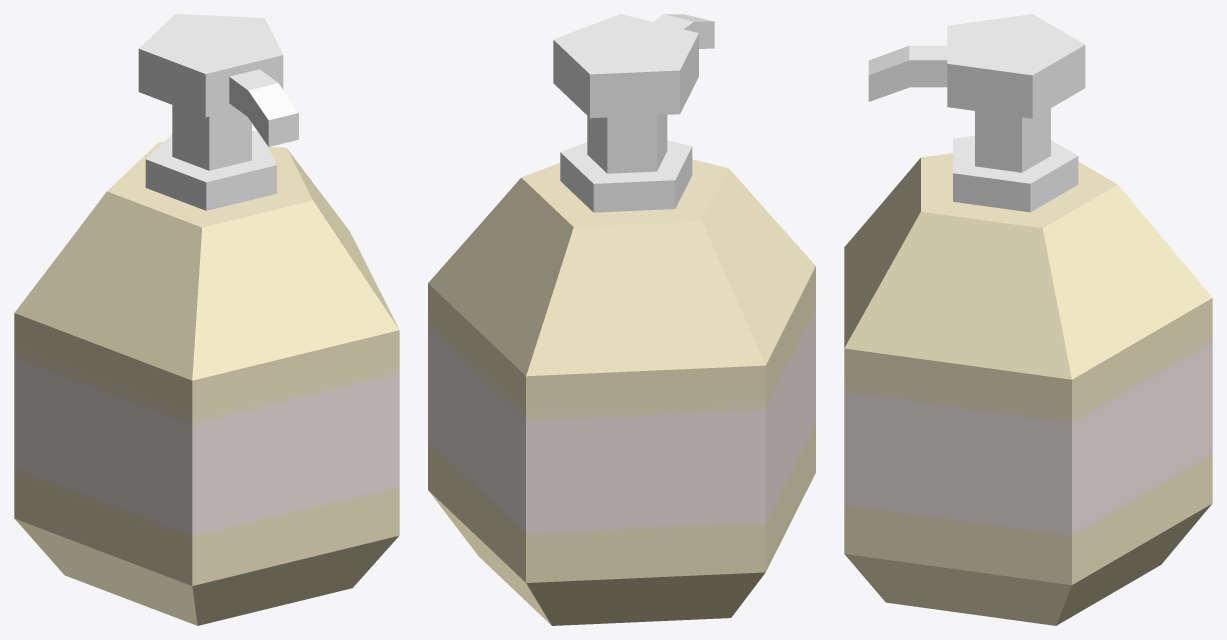
Rendered from liquid_soap.fbx.
3 renders of one model, left to right at view 1: azimuth 30°, elevation 25°; view 2: azimuth 150°, elevation 25°; view 3: azimuth 270°, elevation 25°, orthographic.
Parts seen in each view (by area): view 1: liquid_soap; view 2: liquid_soap; view 3: liquid_soap.
Boxes of the visible parts, x1,y1,x2,y2 form: liquid_soap: (14, 14, 399, 625); liquid_soap: (428, 14, 815, 625); liquid_soap: (844, 14, 1212, 625).
Size of the model in its own units: 41.58 by 61.6 by 39.55.
